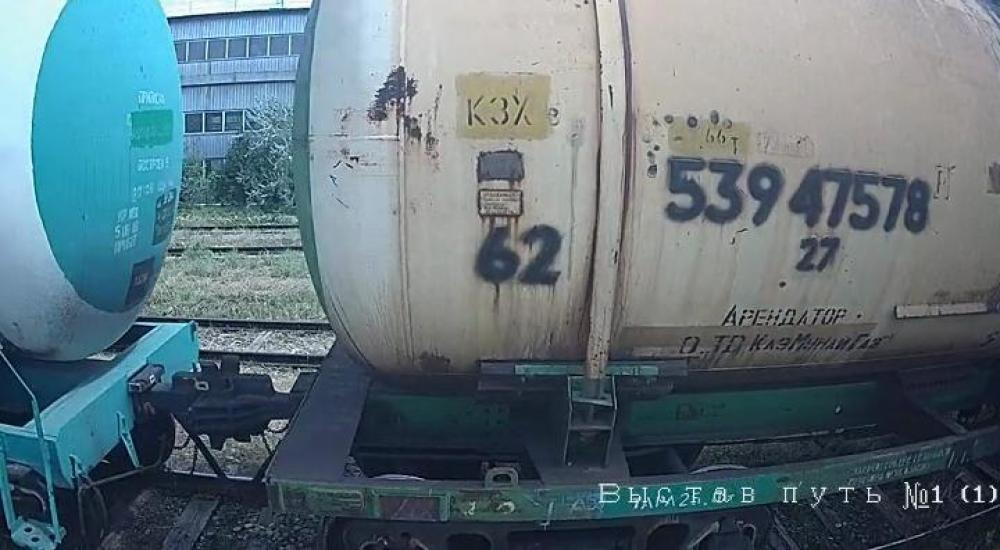Wagon-number: (661, 154, 935, 238)
